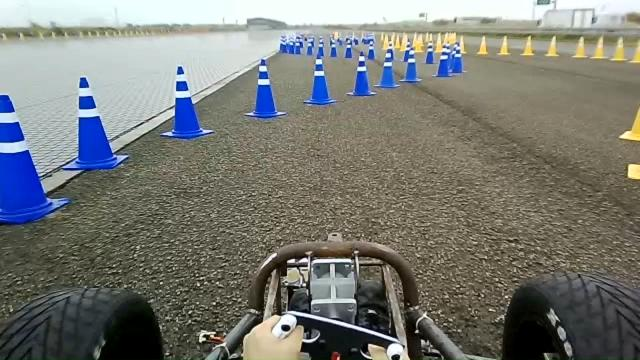blue cone: (0, 94, 71, 224), (61, 75, 129, 171), (160, 65, 214, 139), (244, 57, 286, 118), (303, 57, 337, 105), (346, 52, 378, 96), (373, 49, 400, 88), (405, 45, 421, 83), (435, 44, 451, 77), (450, 44, 463, 74), (425, 47, 434, 64)
yellow cone: (610, 36, 628, 62), (590, 35, 608, 59), (571, 36, 588, 58), (544, 35, 560, 57), (520, 35, 535, 56), (496, 35, 511, 55), (628, 40, 640, 63), (476, 35, 488, 55)
